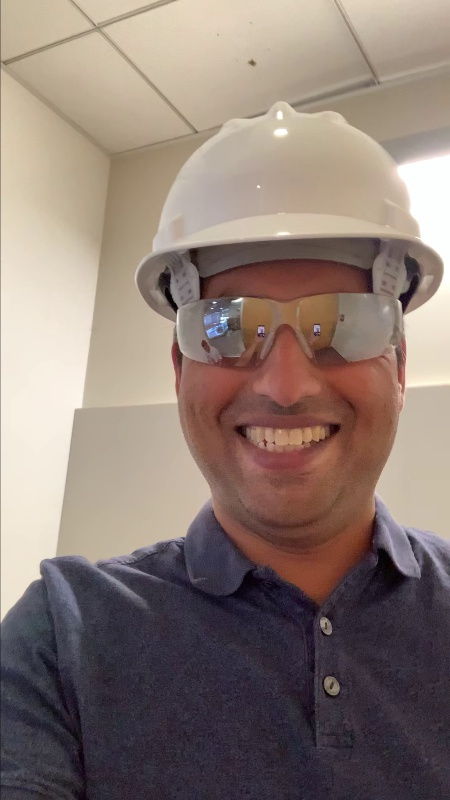glasses: (168, 282, 410, 373)
helmet: (124, 96, 445, 287)
